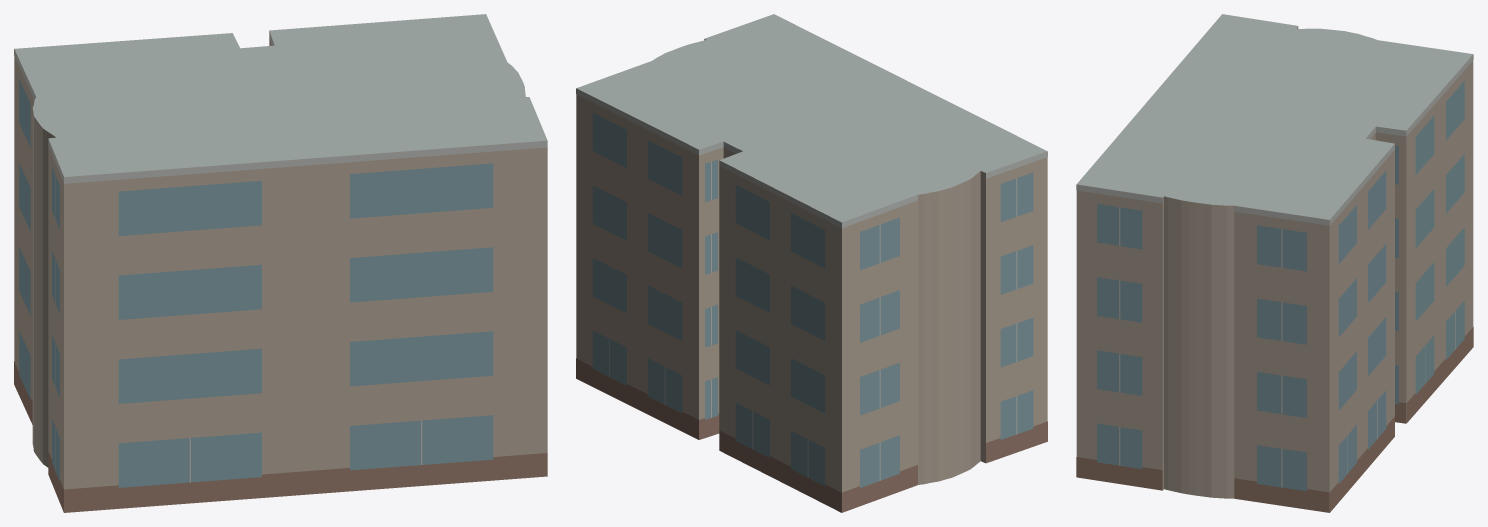
File: survey-upis-32999551.glb
3 renders of one model, left to right at view 1: azimuth 30°, elevation 25°; view 2: azimuth 150°, elevation 25°; view 3: azimuth 270°, elevation 25°, orthographic. The views are drawn at different scales.
Visible parts, largest first — view 1: survey-upis-32999551.tmp; view 2: survey-upis-32999551.tmp; view 3: survey-upis-32999551.tmp.
Boxes of the visible parts, x1,y1,x2,y2 form: survey-upis-32999551.tmp: (14, 14, 547, 512); survey-upis-32999551.tmp: (576, 14, 1047, 512); survey-upis-32999551.tmp: (1076, 14, 1473, 512).
Size of the model in its own units: 18.4 by 12.2 by 15.
